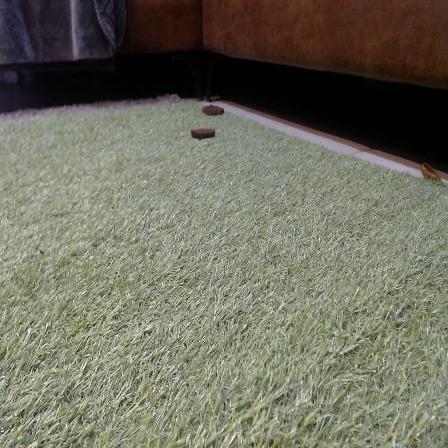dog-poop: (188, 124, 220, 145), (202, 103, 224, 117)
